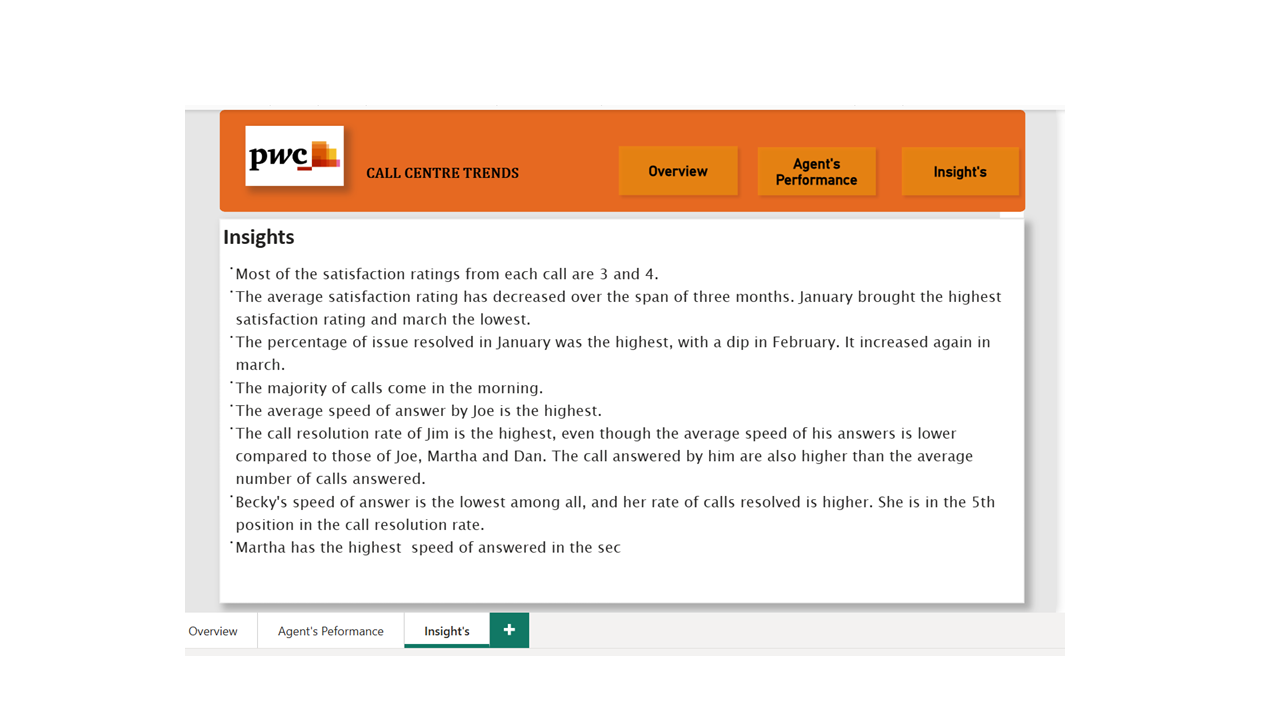

This screenshot's page, from the dashboard's own definition file:
{"tool":"powerbi","page":{"name":"Insight's","canvas":[1280,720],"ordinal":2},"visuals":[{"type":"textbox","box":[81.4,155.7,1152.9,550],"z":0},{"type":"shape","box":[241.4,0,1038.6,145.7],"z":1000},{"type":"actionButton","box":[645.2,43.4,188.1,88],"z":2000},{"type":"actionButton","box":[843,44.6,186.9,86.8],"z":3000},{"type":"actionButton","box":[1049.2,44.6,185.7,86.8],"z":4000},{"type":"textbox","box":[285.8,85.6,254.5,45.8],"z":5000},{"type":"image","box":[317.2,10.9,126.6,50.7],"z":6000}]}

Visuals, with their boxes on the page's 1280x720 design canvas (x1, y1, x2, y2). These are canvas units, not pixel positions in the 1280x720 screenshot, which may show the page scaled, cropped or inside an application window:
textbox: (81,156,1234,706)
shape: (241,0,1280,146)
actionButton: (645,43,833,131)
actionButton: (843,45,1030,131)
actionButton: (1049,45,1235,131)
textbox: (286,86,540,131)
image: (317,11,444,62)
